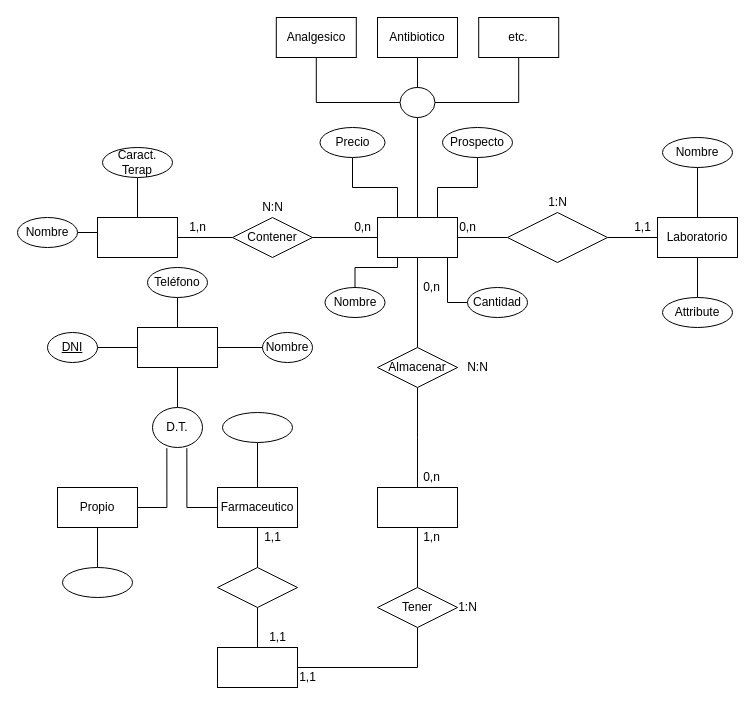
This 755x705 diagram has some shape labels left out. The shapes that lost their labels are listed below. From the top down, each one's centre as x and y in pixels, then its label:
the point at 417,102: P.S.
the point at 137,237: Ingrdiente
the point at 417,237: Medicamento
the point at 557,237: Comercializar
the point at 177,347: Empleado
the point at 257,427: Año titulo
the point at 417,507: Farmacia
the point at 97,582: Tipo Contrato
the point at 257,587: Trabaja
the point at 257,667: Ciudad
